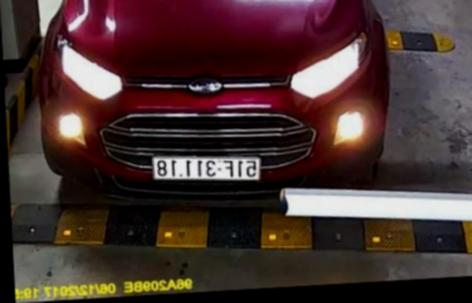License_Plate: (150, 145, 270, 187)
